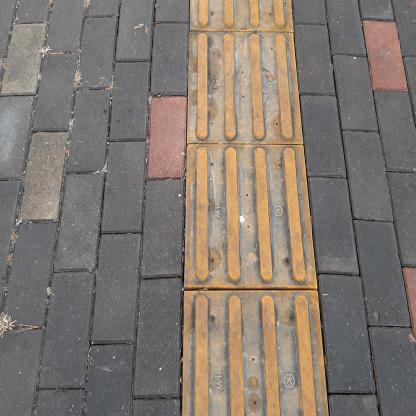podotacti: (171, 0, 337, 415)
